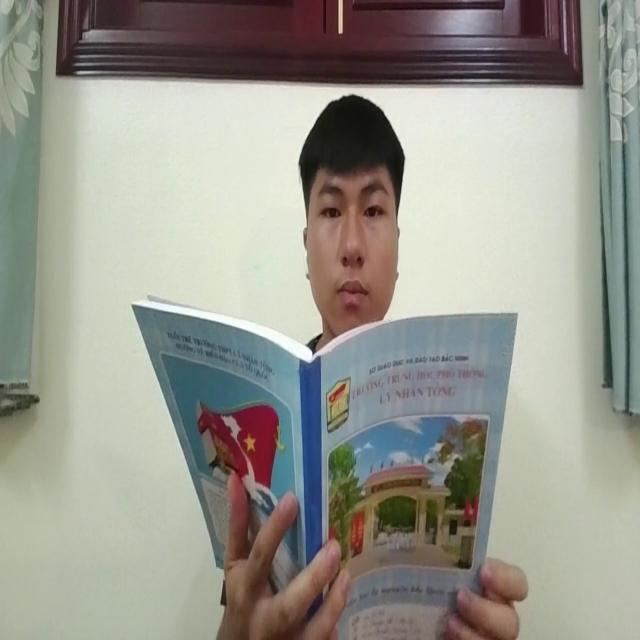book: (133, 282, 518, 624)
student: (298, 89, 408, 333)
